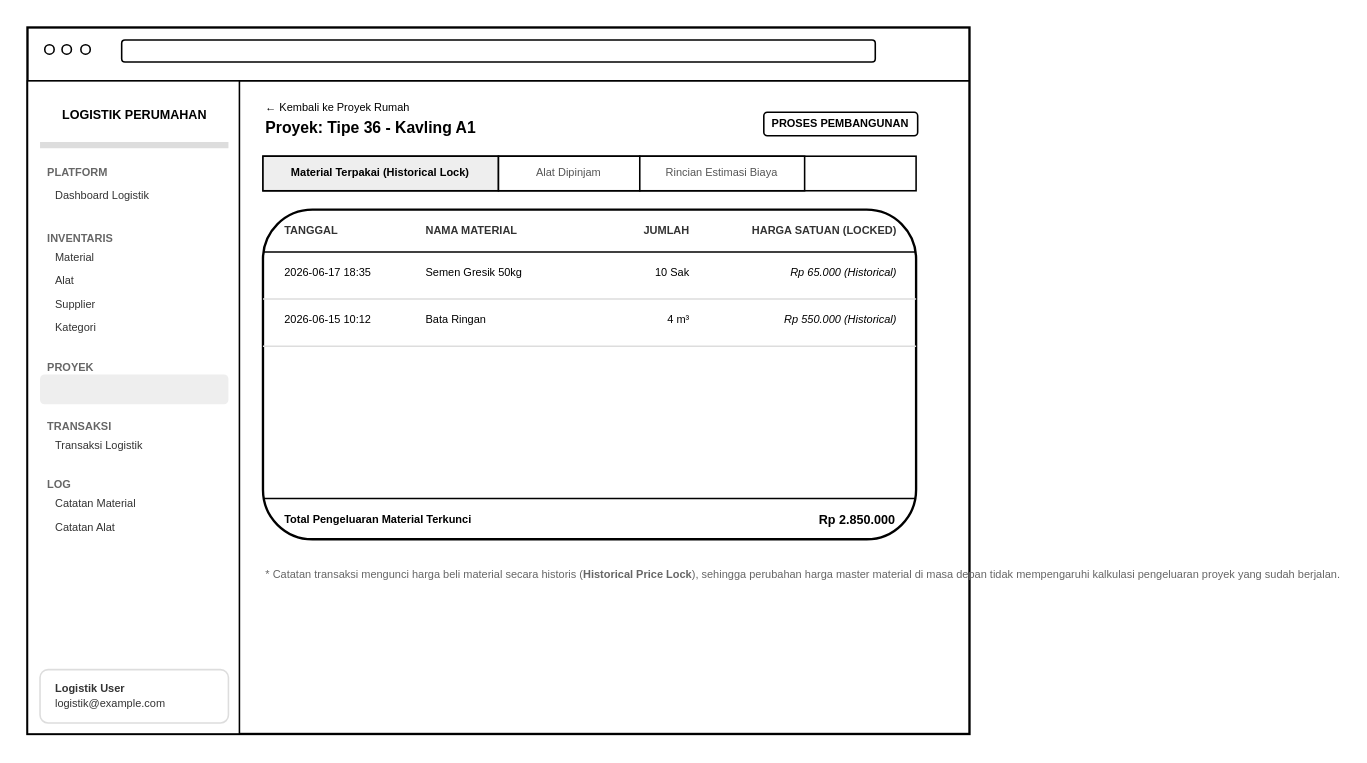
This 1367x763 diagram has some shape labels left out. The centre of each missing label's shape, as x and y in pixels:
http://localhost/logistik/houses/1: pixel 497 50
Rumah: pixel 133 388
